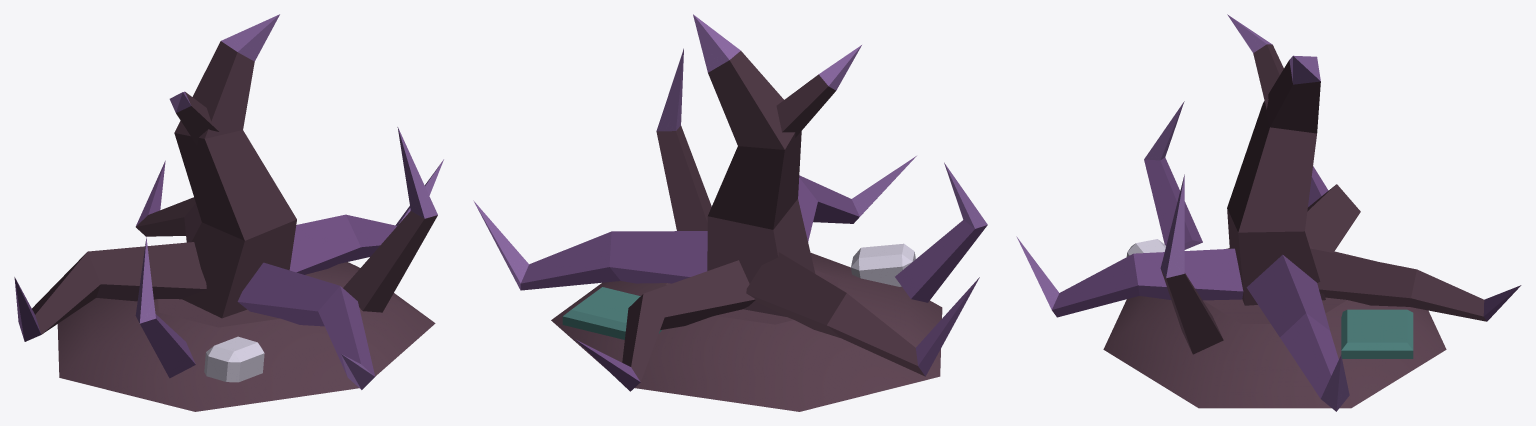
The model's file is root_clump.glb.
The picture shows the model from 3 angles, left to right: view 1: azimuth 30°, elevation 25°; view 2: azimuth 150°, elevation 25°; view 3: azimuth 270°, elevation 25°; orthographic projection. The views are drawn at different scales.
Parts seen in each view (by area): view 1: root_clump; view 2: root_clump; view 3: root_clump.
Boxes of the visible parts, bbox=[...] form: root_clump: bbox=[14, 14, 443, 411]; root_clump: bbox=[473, 14, 987, 411]; root_clump: bbox=[1016, 14, 1521, 411].
Size of the model in its own units: 1.76 by 1.1 by 1.68.
1 material, 1 textured.
